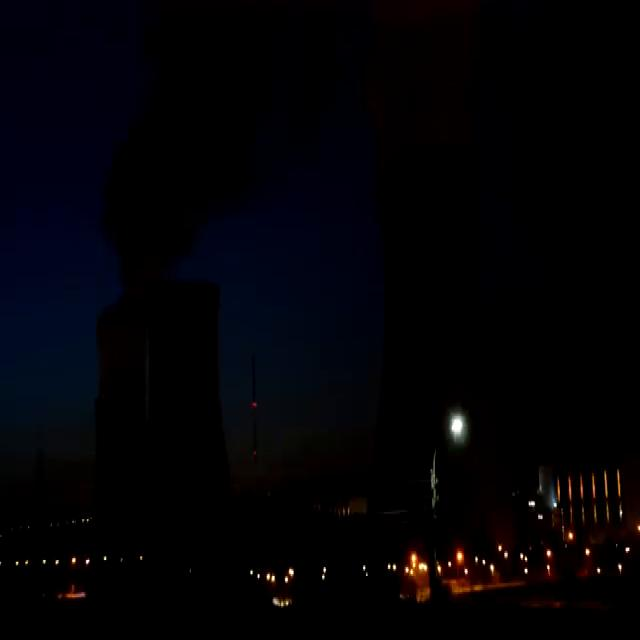smoke: (102, 0, 325, 281)
